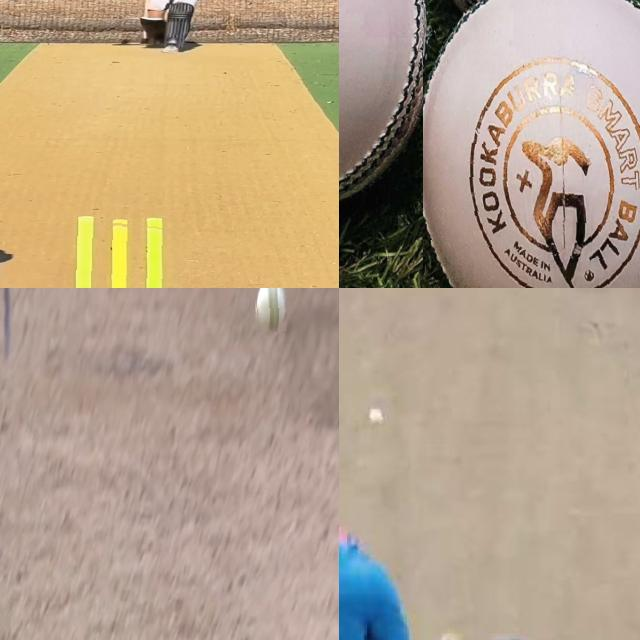Cricket ball: (422, 0, 640, 288), (339, 0, 431, 220), (255, 288, 287, 331), (368, 406, 384, 428)
Stumps: (62, 216, 185, 288)
